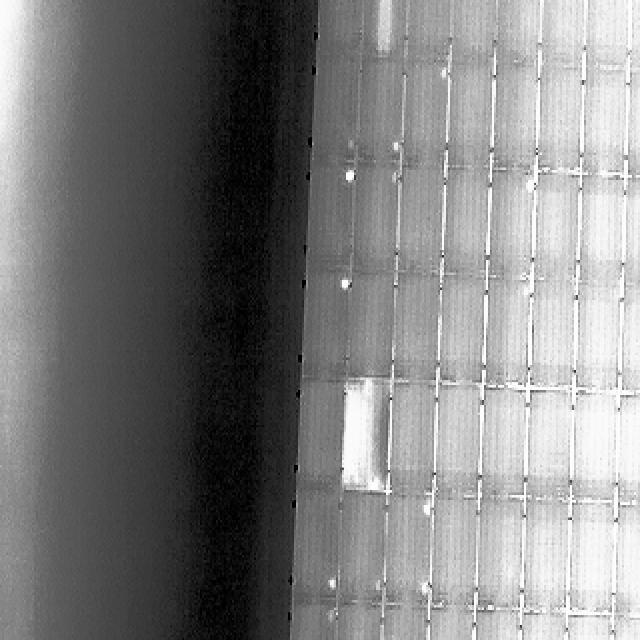Hotspots: (346, 385, 384, 488), (373, 0, 394, 50), (418, 574, 433, 604), (518, 175, 536, 197), (383, 140, 399, 159), (418, 499, 434, 516), (340, 171, 354, 190), (324, 577, 340, 593), (336, 276, 352, 290)
PV-modules: (335, 493, 386, 607), (432, 498, 482, 612), (523, 498, 572, 614), (388, 382, 437, 496), (475, 498, 524, 612), (566, 502, 614, 617), (393, 273, 441, 387), (299, 381, 349, 490), (294, 492, 342, 605), (478, 389, 527, 499), (348, 165, 397, 275), (526, 388, 575, 498), (440, 276, 488, 388), (436, 386, 484, 498), (384, 497, 432, 609), (345, 274, 394, 383), (532, 172, 580, 283), (444, 168, 493, 276), (447, 61, 496, 169), (569, 390, 617, 500), (303, 275, 351, 385), (396, 168, 445, 275), (529, 283, 577, 392), (342, 381, 389, 492), (400, 64, 448, 172), (576, 288, 624, 396), (580, 176, 627, 286), (482, 280, 529, 390), (307, 163, 354, 273), (313, 58, 360, 168), (486, 170, 533, 279), (582, 70, 629, 179), (536, 67, 583, 176), (353, 63, 401, 168), (492, 62, 539, 169), (610, 505, 640, 620), (584, 0, 632, 68), (496, 0, 544, 66), (539, 0, 587, 65), (450, 0, 498, 64), (404, 0, 451, 61), (614, 398, 640, 508), (318, 0, 362, 63), (361, 0, 402, 64), (618, 285, 640, 395), (620, 175, 640, 287), (330, 602, 382, 640), (622, 72, 640, 180), (288, 602, 336, 640), (378, 602, 426, 640), (422, 610, 472, 640), (470, 612, 520, 640), (518, 615, 568, 640), (562, 617, 608, 640), (626, 0, 640, 72), (608, 620, 640, 640)
